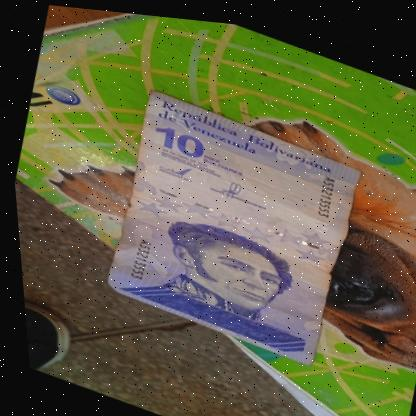ten-front-vef: (86, 79, 374, 369)
